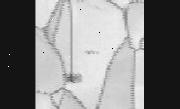good_void: (64, 69, 82, 83), (85, 47, 100, 53)
